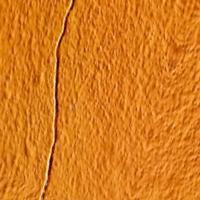crack: (40, 2, 89, 199)
